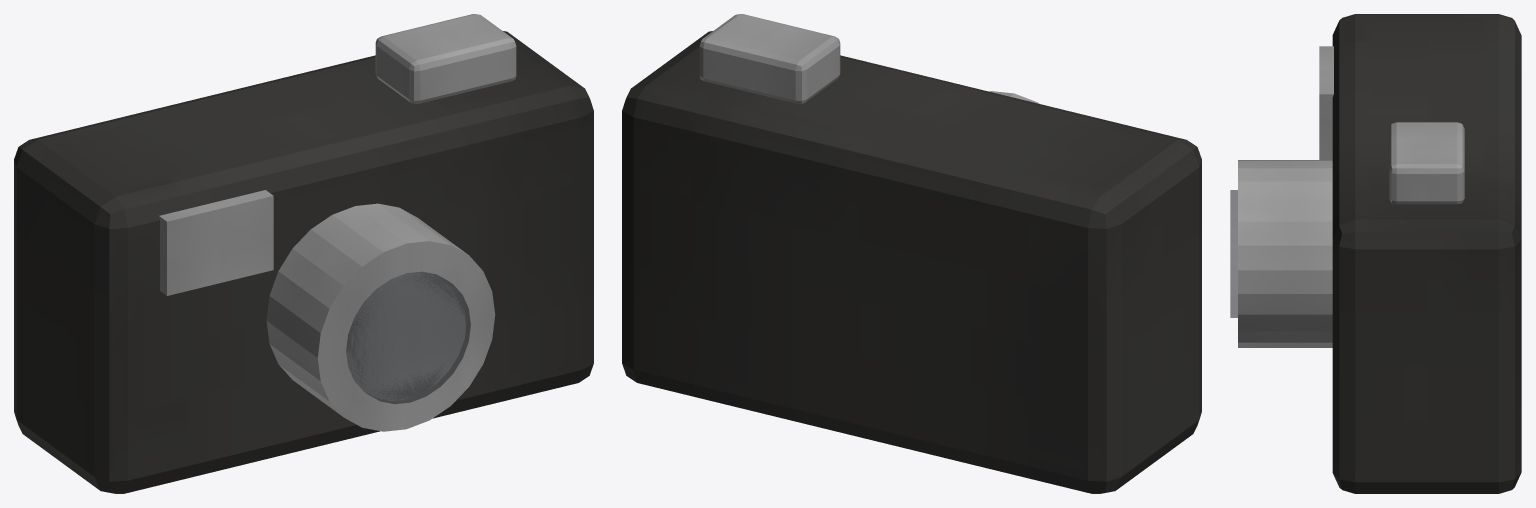
File: TY42_ToyCamera.glb
3 views of the same model, side by side, from view 1: azimuth 30°, elevation 25°; view 2: azimuth 150°, elevation 25°; view 3: azimuth 270°, elevation 25° (orthographic). The views are drawn at different scales.
Visible parts, largest first — view 1: TY42_ToyCamera; view 2: TY42_ToyCamera; view 3: TY42_ToyCamera.
Boxes of the visible parts, x1,y1,x2,y2 form: TY42_ToyCamera: (14,14,593,493); TY42_ToyCamera: (622,14,1201,493); TY42_ToyCamera: (1230,14,1521,493).
Bounding box in the file's own units: 0.2 × 0.13 × 0.11.
Materials: 3 (3 with a texture image).
